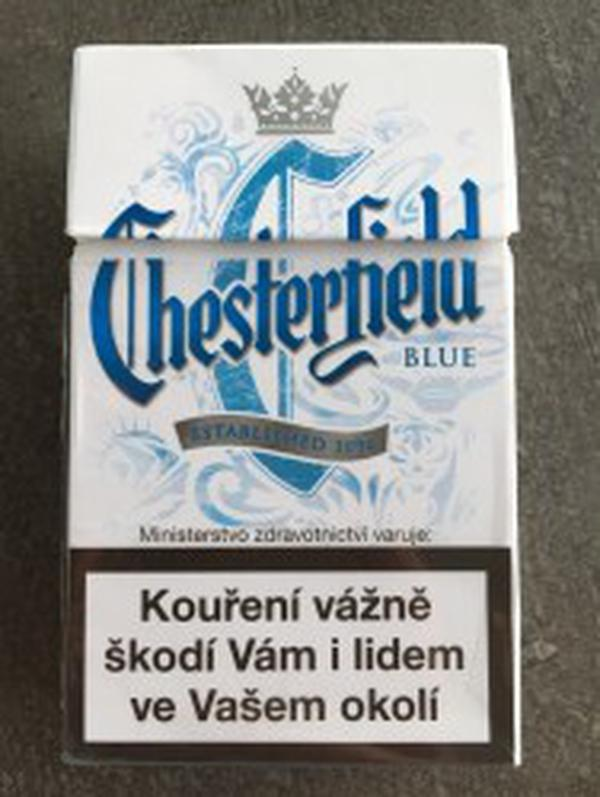chesterfield_blue: (70, 50, 517, 759)
